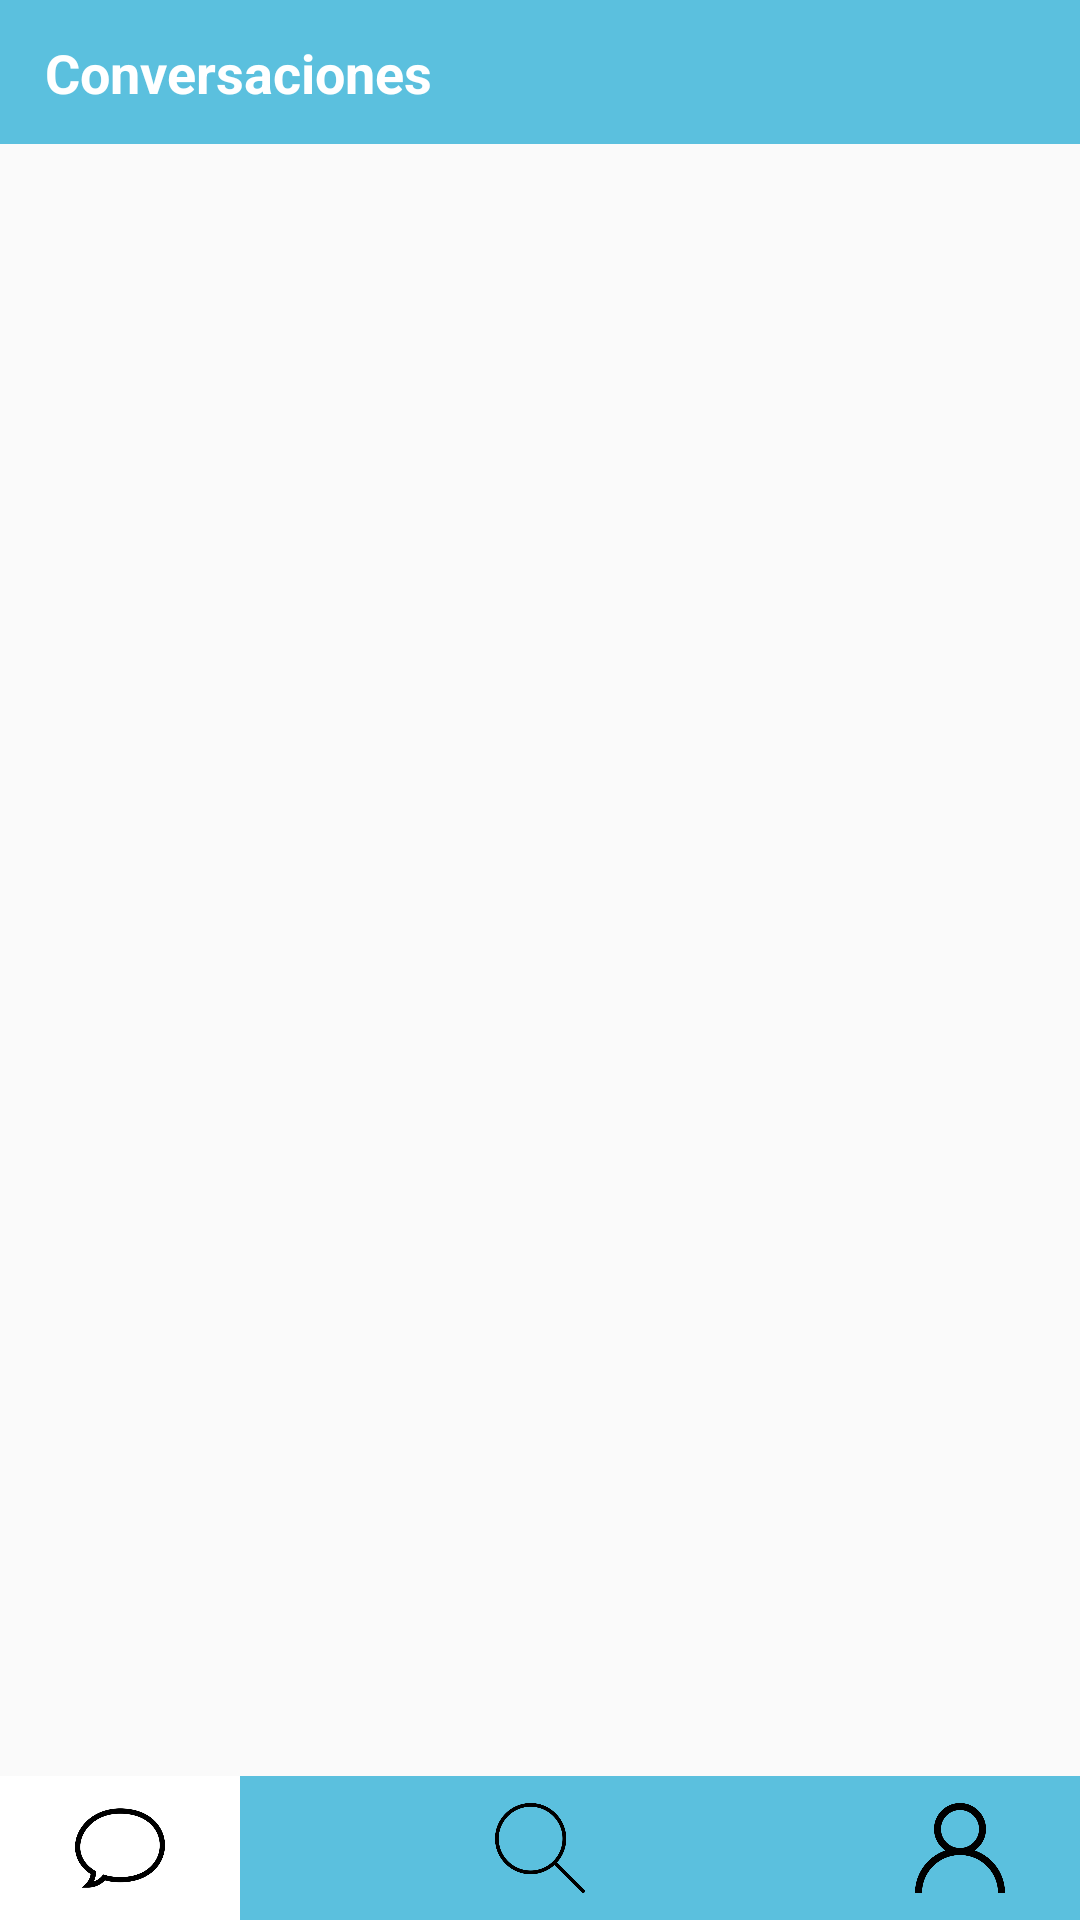

Screen size 1080 × 1920. Icon name, then its box in pixels as (x1, y1, x2, y2):
buscar: (495, 1803, 585, 1893)
comentario: (75, 1808, 165, 1888)
